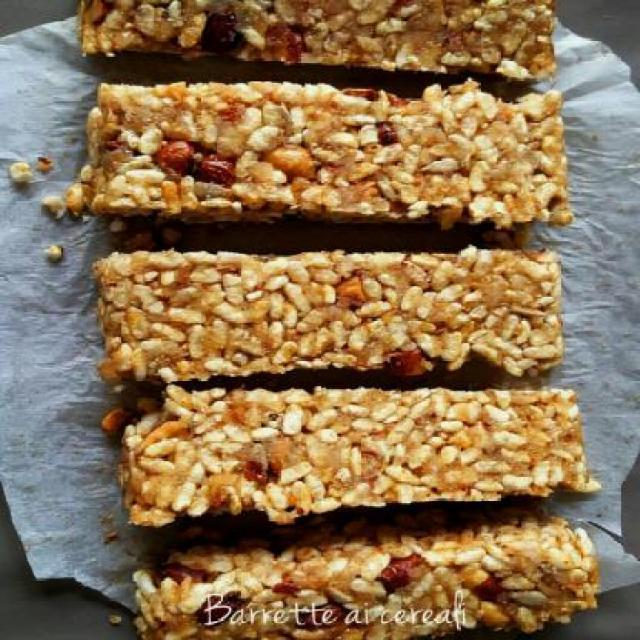Cereal bar packaged: (76, 84, 581, 228), (84, 242, 566, 382), (93, 384, 595, 514), (74, 2, 572, 80)
